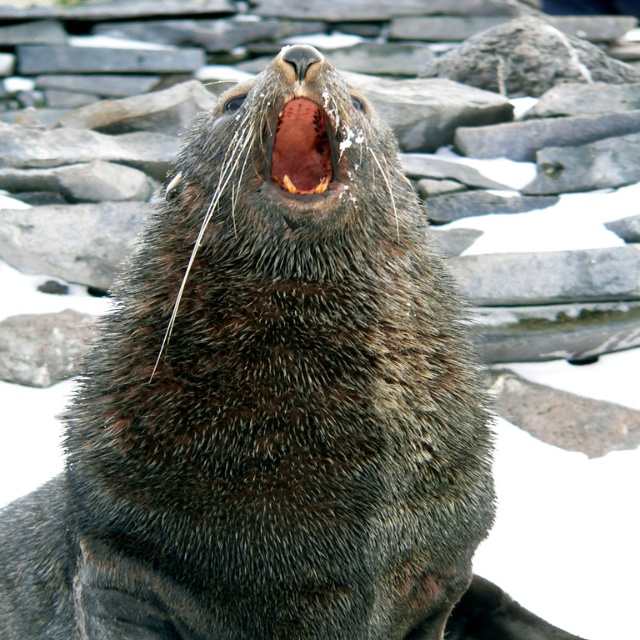Sea lion: (0, 42, 597, 640)
